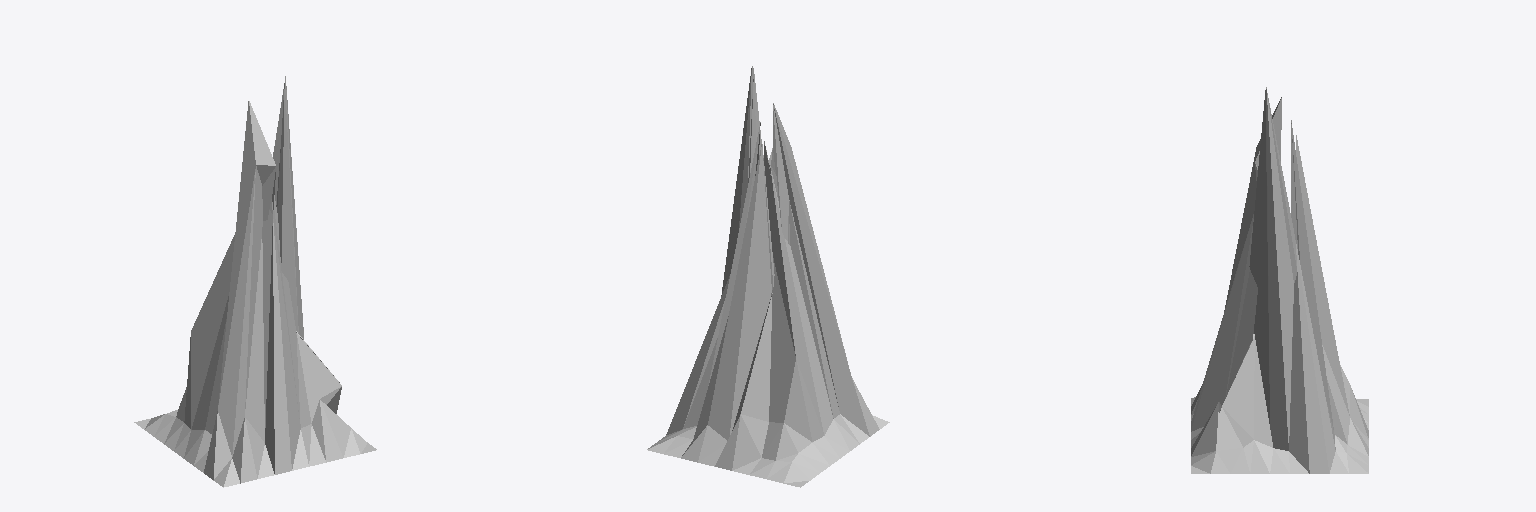
File: peak.obj
3 views of the same model, side by side, from view 1: azimuth 30°, elevation 25°; view 2: azimuth 150°, elevation 25°; view 3: azimuth 270°, elevation 25° (orthographic).
Visible parts, largest first — view 1: Grid; view 2: Grid; view 3: Grid.
Boxes of the visible parts, <box> form: Grid: <box>134,76,376,487</box>; Grid: <box>647,66,889,487</box>; Grid: <box>1191,87,1368,473</box>.
Size of the model in its own units: 18.33 by 40.89 by 18.33.